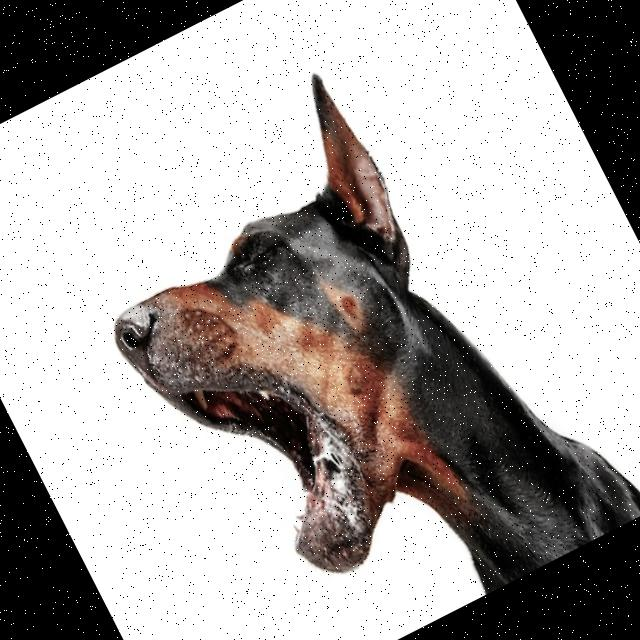Dog: (45, 21, 640, 640)
